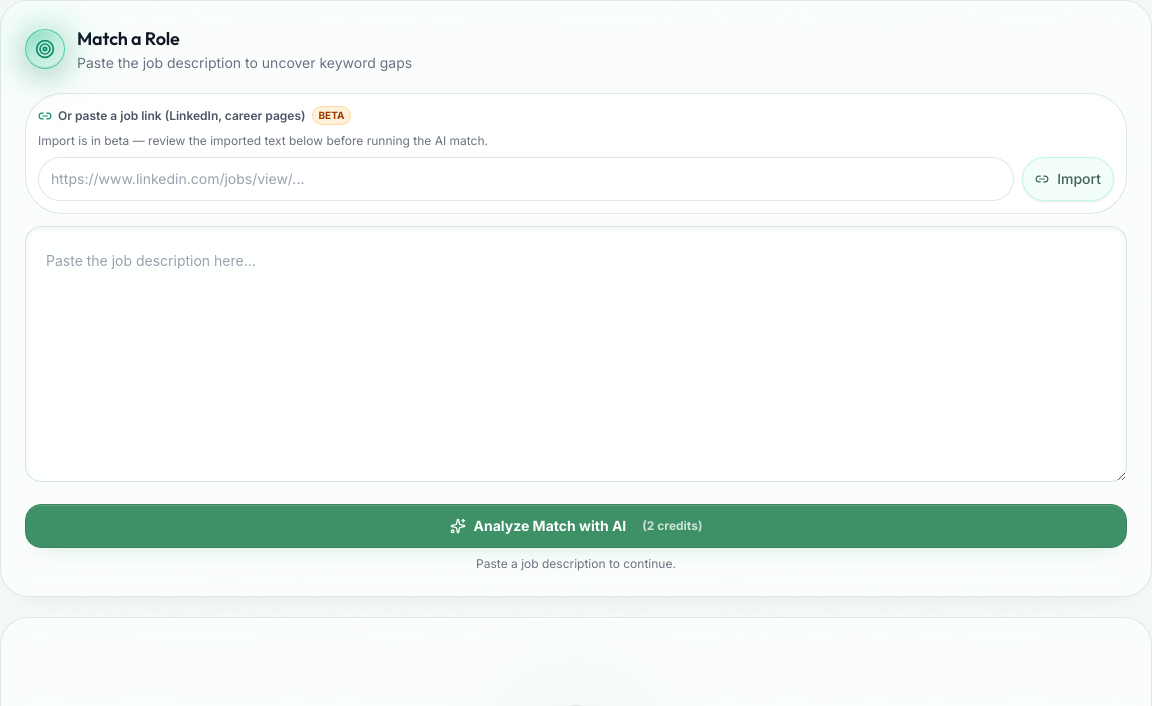
Test: JobMatch › imports a job description from a URL into the editable JD textarea
In the field with placeholder "https://www.linkedin.com/jobs/view/...": (526, 179) [38,157,1014,201], type "https://www.linkedin.com/jobs/view/123/"
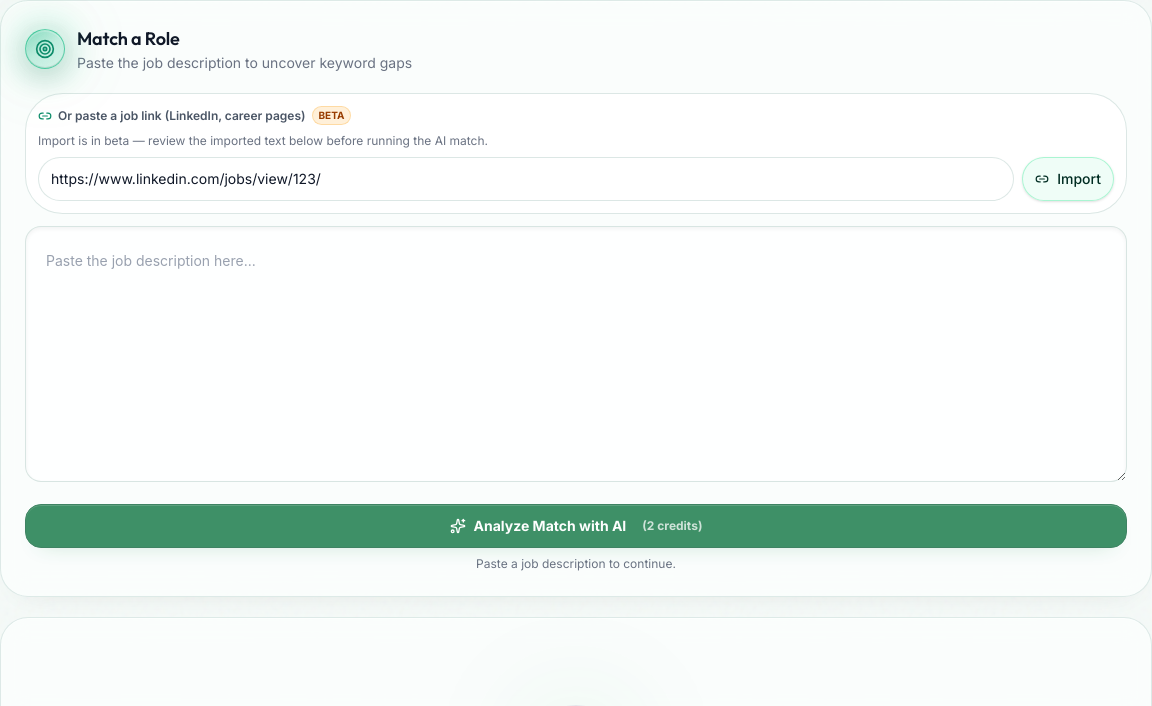
Click the button "Import": click(1068, 179) [1022,157,1114,201]
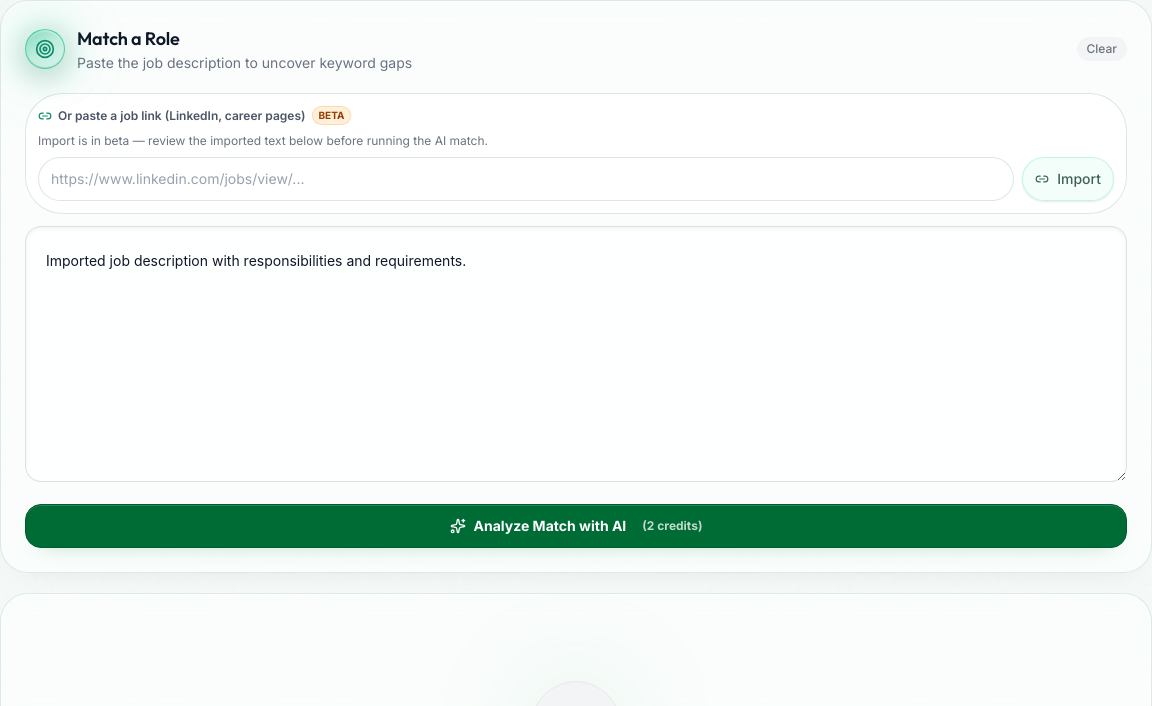
Check: the text box with placeholder "Paste the job description here..." holds "Imported job description with responsibilities and requirements.", box [25,226,1127,482]
Check: the field with placeholder "https://www.linkedin.com/jobs/view/..." is empty, box [38,157,1014,201]
